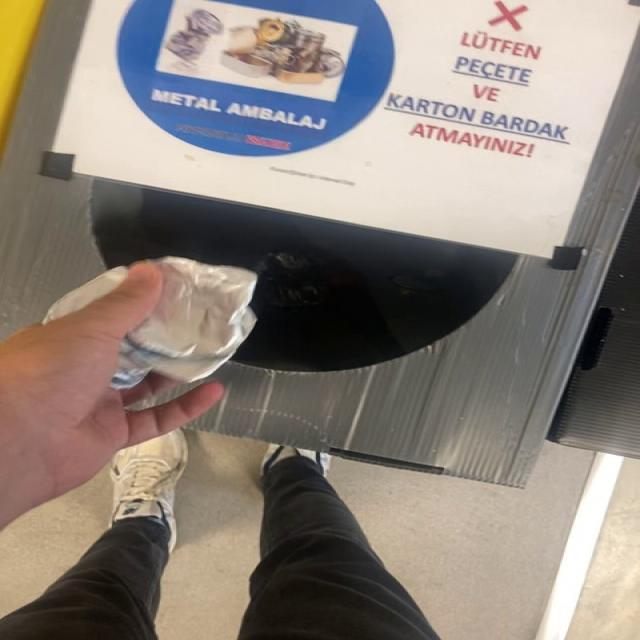bin: (3, 0, 640, 486)
metal: (112, 257, 257, 388), (43, 268, 127, 324)
